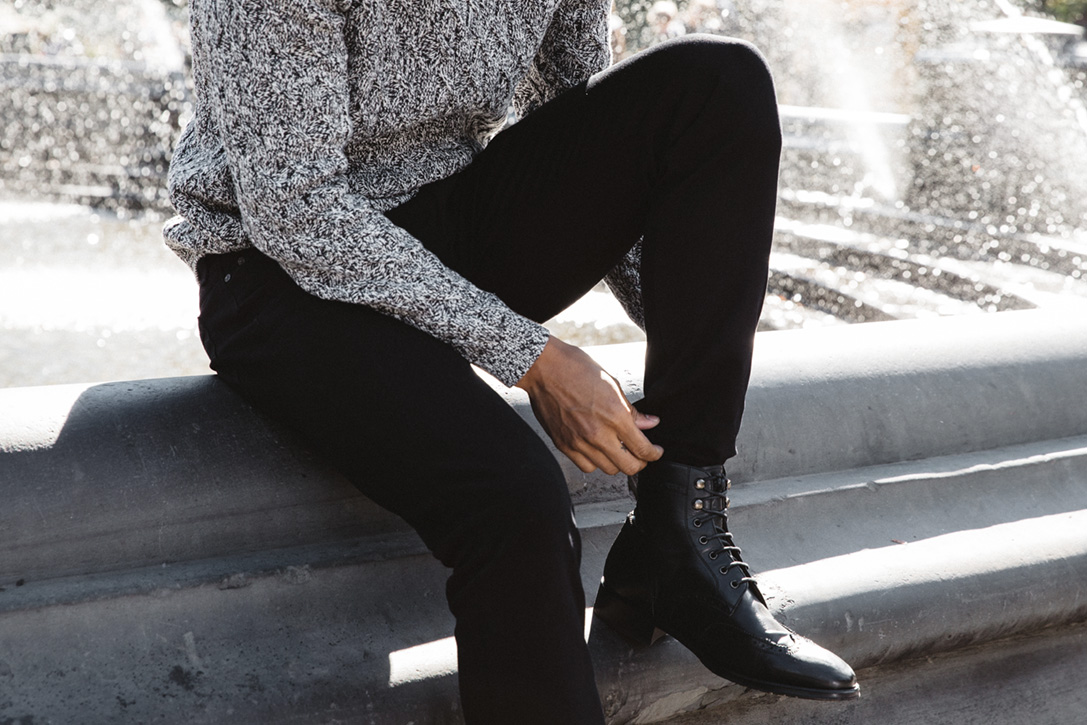jeans: (182, 38, 784, 712)
